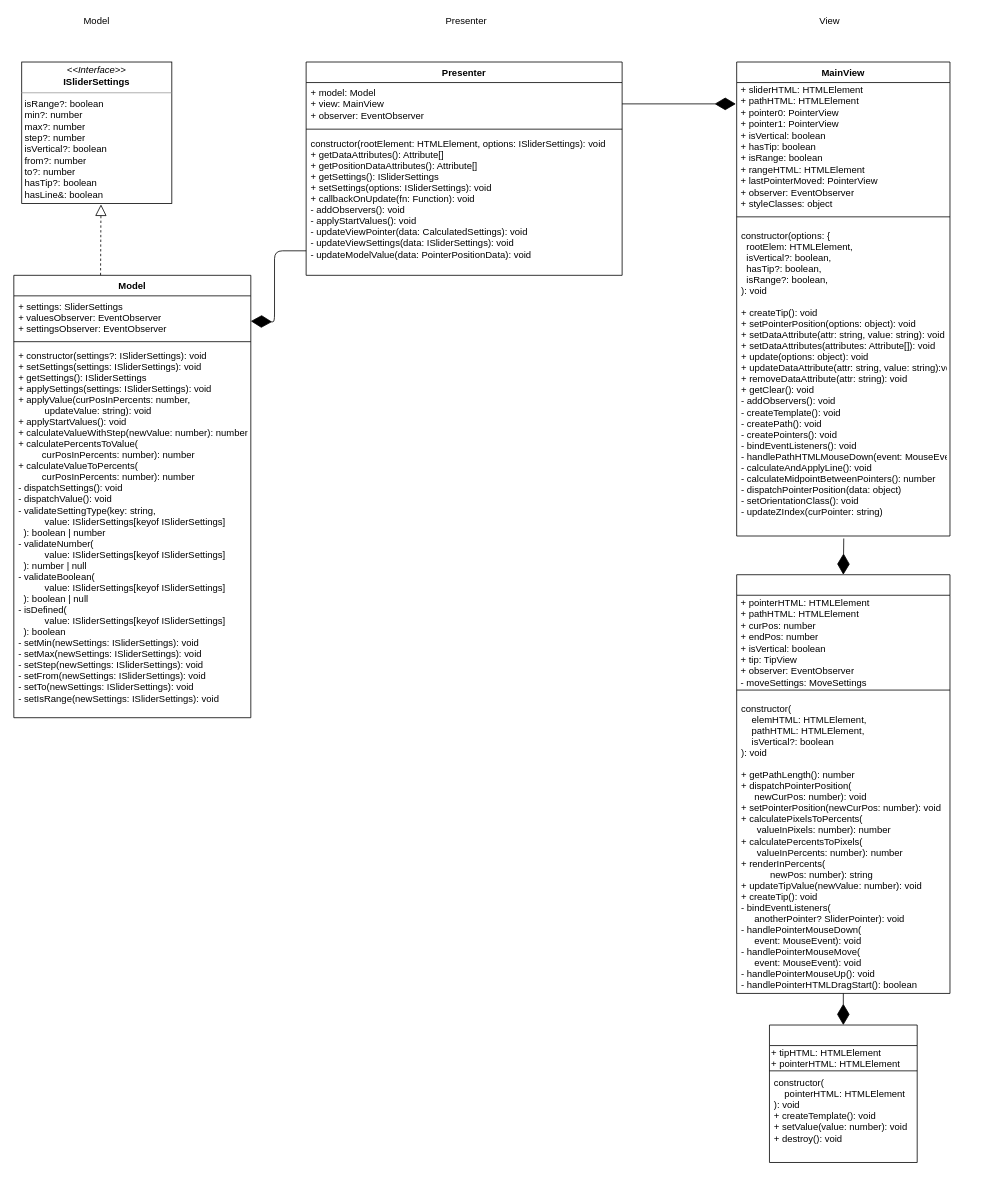
Image size: 996x1178. Some labels were removed from this diagram. The shapes that lost their labels are listed below. From the top down, each one's box as (x1, y1, x2, y2) in pixels, then its label:
(736, 574, 950, 993): PointerView
(769, 1024, 917, 1162): TipView
